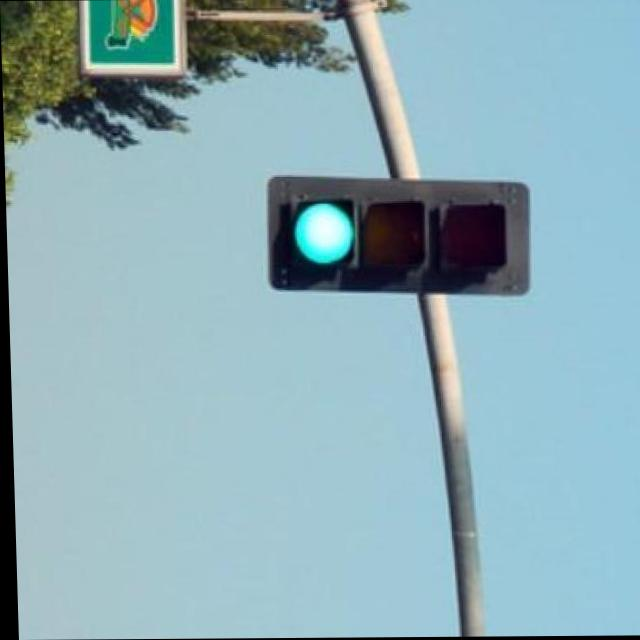green light: (274, 183, 511, 284)
